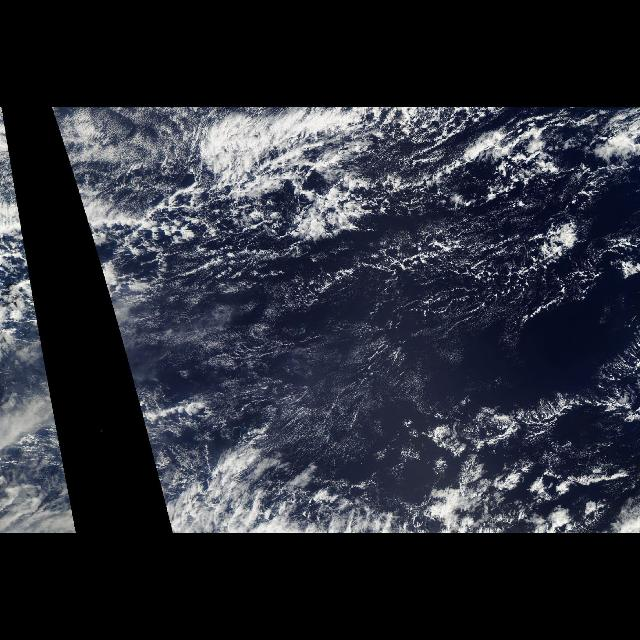Gravel: (134, 108, 638, 312)
Sugar: (152, 318, 428, 452), (50, 109, 210, 229), (2, 109, 24, 229)
